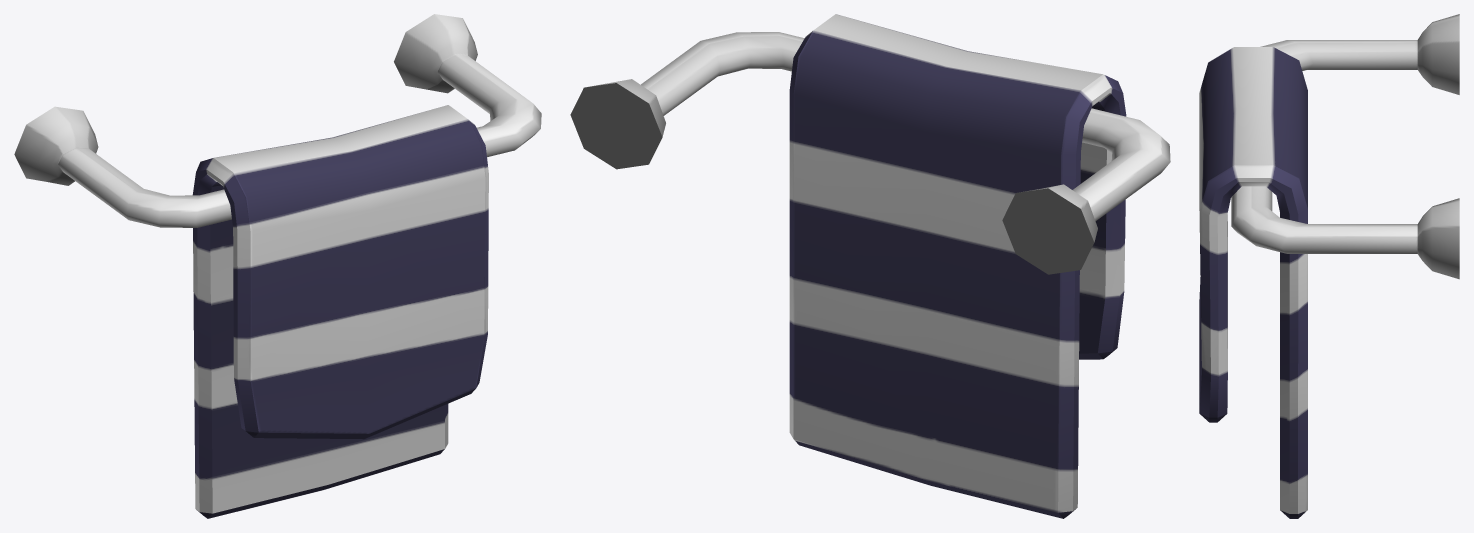
Rendered from housepack_towels_towelBar_with_towel_1.FBX.
3 renders of one model, left to right at view 1: azimuth 30°, elevation 25°; view 2: azimuth 150°, elevation 25°; view 3: azimuth 270°, elevation 25°, orthographic. The views are drawn at different scales.
Visible parts, largest first — view 1: housepack_towels_towelBar_with_towel_1; view 2: housepack_towels_towelBar_with_towel_1; view 3: housepack_towels_towelBar_with_towel_1.
Boxes of the visible parts, left/top/right/bottom form: housepack_towels_towelBar_with_towel_1: left=14, top=14, right=541, bottom=518; housepack_towels_towelBar_with_towel_1: left=570, top=14, right=1170, bottom=518; housepack_towels_towelBar_with_towel_1: left=1199, top=14, right=1459, bottom=518.
Bounding box in the file's own units: 40.37 × 30.82 × 19.85.
